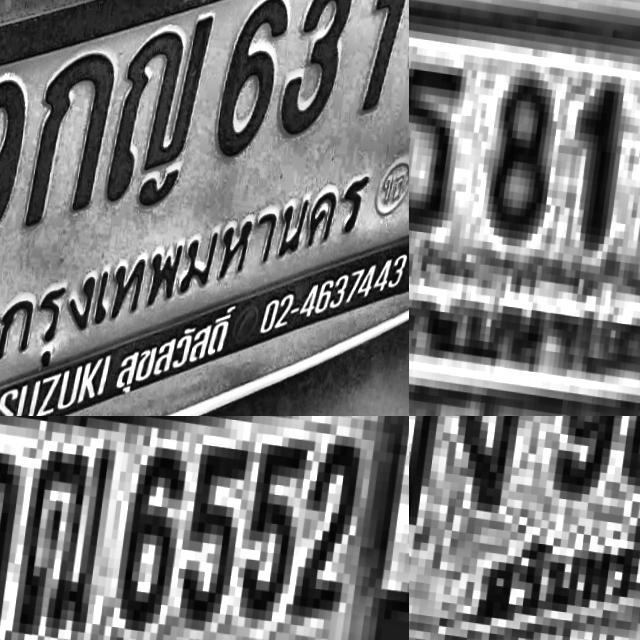license-plate: (0, 0, 409, 416), (409, 0, 640, 416), (0, 416, 405, 640), (409, 416, 640, 640)
